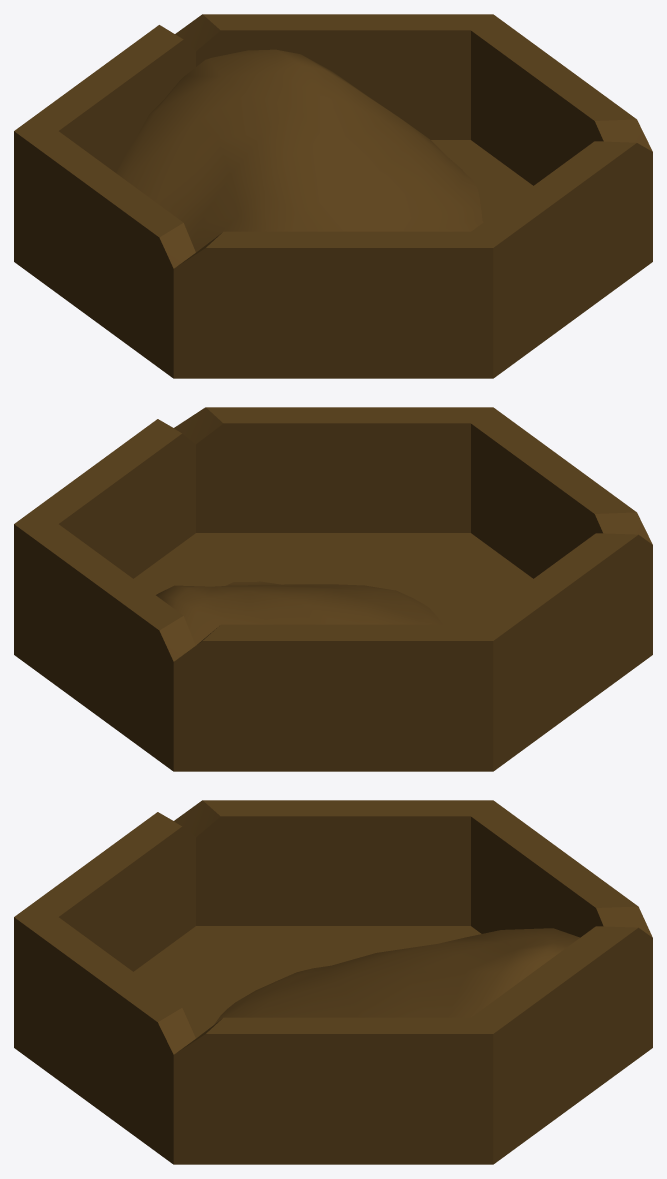
The model's file is Popielniczka.fbx.
3 renders of one model, top to bottom at view 1: azimuth 30°, elevation 25°; view 2: azimuth 150°, elevation 25°; view 3: azimuth 270°, elevation 25°, orthographic.
Visible parts, largest first — view 1: Popielniczka_LOD0; view 2: Popielniczka_LOD0; view 3: Popielniczka_LOD0.
Part boxes in pixels (x1=…): Popielniczka_LOD0: x1=14, y1=14, x2=652, y2=378; Popielniczka_LOD0: x1=14, y1=407, x2=652, y2=771; Popielniczka_LOD0: x1=14, y1=800, x2=652, y2=1164.
Size of what is drawn, in the model's own units: 18.92 by 4.93 by 21.85.
